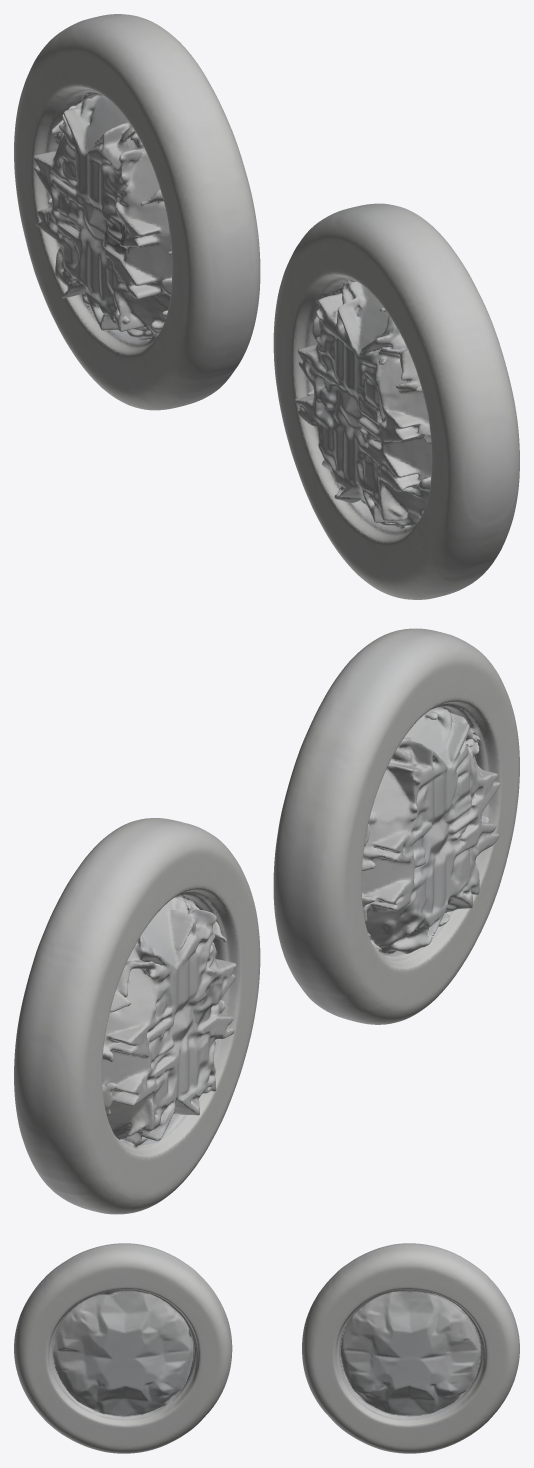
3 renders of one model, top to bottom at view 1: azimuth 30°, elevation 25°; view 2: azimuth 150°, elevation 25°; view 3: azimuth 270°, elevation 25°, orthographic. The views are drawn at different scales.
Visible parts, largest first — view 1: tripo_node_79dba930-3ae7-4213-9459-20bdf1fd624c; view 2: tripo_node_79dba930-3ae7-4213-9459-20bdf1fd624c; view 3: tripo_node_79dba930-3ae7-4213-9459-20bdf1fd624c.
Part boxes in pixels (x1,y1,x2,y2): tripo_node_79dba930-3ae7-4213-9459-20bdf1fd624c: (14,14,519,599); tripo_node_79dba930-3ae7-4213-9459-20bdf1fd624c: (14,628,519,1214); tripo_node_79dba930-3ae7-4213-9459-20bdf1fd624c: (14,1243,519,1453).
Size of the model in its own units: 0.115 by 0.4423 by 1.
Materials: 1 (1 with a texture image).
